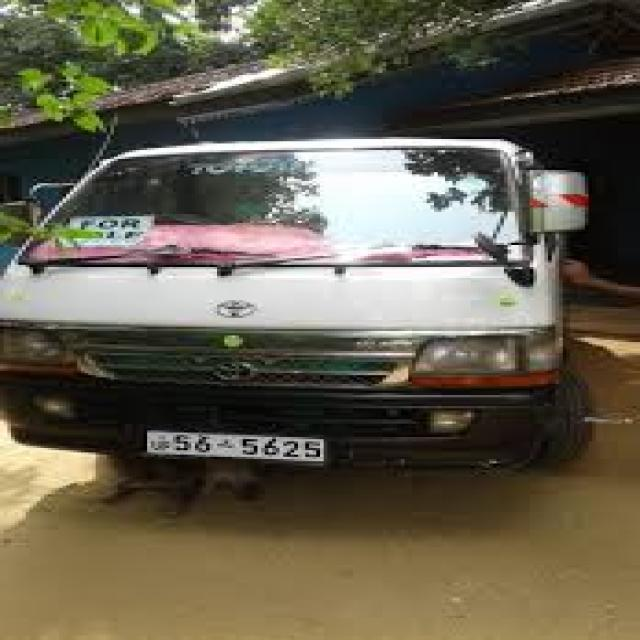van: (4, 139, 581, 463)
